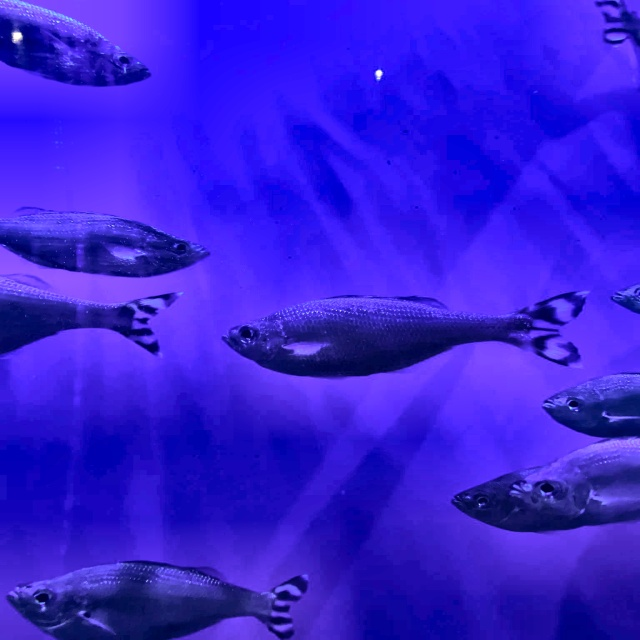fish: (219, 286, 591, 380), (0, 560, 311, 639), (447, 438, 639, 533), (0, 202, 209, 280), (0, 282, 185, 357), (0, 1, 156, 89), (536, 371, 639, 442), (592, 0, 639, 62)
